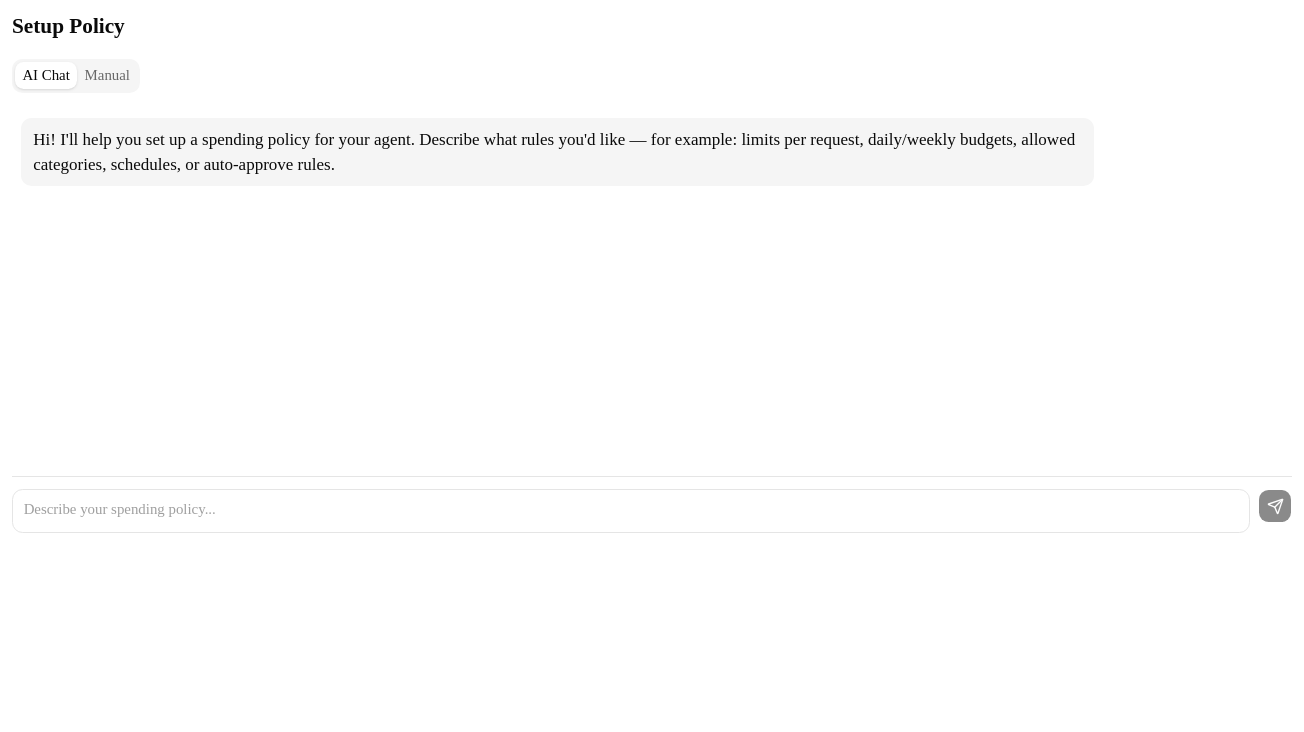
Test: AgentSetupPage › sending a message adds user bubble and gets response
Type "Set daily limit 1000" into the text box with placeholder "Describe your spending policy..." at {"x": 631, "y": 511}, box left=12, top=489, right=1250, bottom=533
Then press Enter
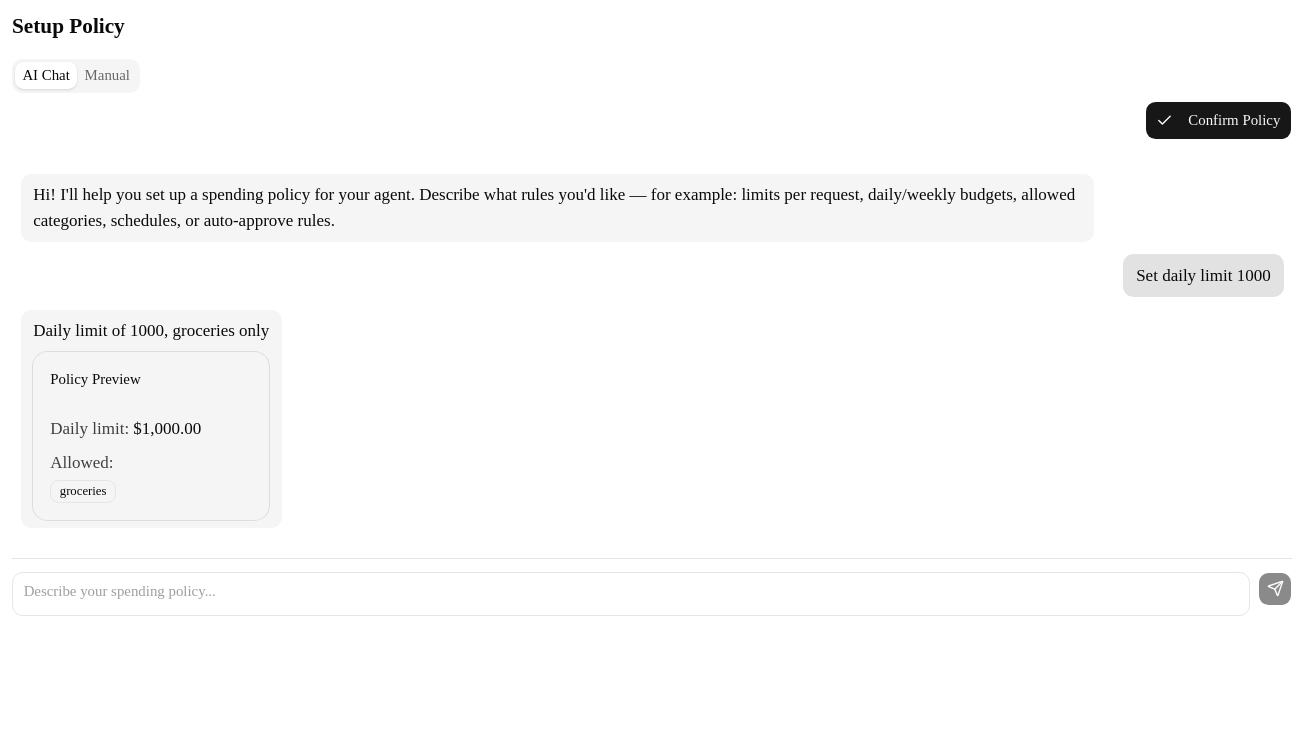
expect the text "Set daily limit 1000" is shown: met, box left=1136, top=263, right=1271, bottom=288
expect the text "Daily limit of 1000, groceries only" is shown: met, box left=33, top=318, right=269, bottom=344
expect the text "Policy Preview" is shown: met, box left=50, top=371, right=141, bottom=387
